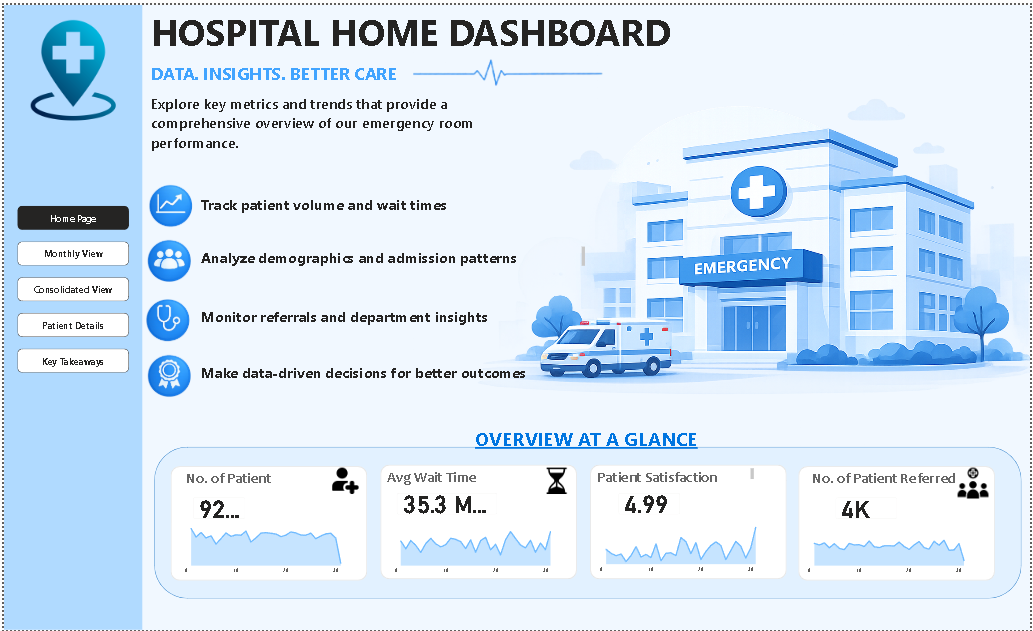

What the dashboard file says about the page in this screenshot:
{"tool":"powerbi","page":{"name":"Home Page","canvas":[2300,1400],"ordinal":0},"visuals":[{"type":"image","box":[906.7,43.3,1393.3,1026.7],"z":0},{"type":"shape","box":[0,0,310,1400],"z":1000},{"type":"image","box":[30,32,250,226],"z":2000},{"type":"pageNavigator","box":[30.5,451.4,250.1,378.2],"z":3000},{"type":"textbox","box":[323.3,0,1223.3,146.7],"z":5000},{"type":"textbox","box":[280,123.3,650,136.7],"z":6000},{"type":"image","box":[853.3,80,596.7,133.3],"z":7000},{"type":"textbox","box":[323.3,193.3,773.3,183.3],"z":8000},{"type":"image","box":[310,386.7,125,125],"z":9000},{"type":"shape","box":[336.7,990,1943.3,340],"z":10000},{"type":"image","box":[310,503.3,125,125],"z":11000},{"type":"image","box":[310,646.7,125,125],"z":12000},{"type":"image","box":[310,763.3,125,125],"z":13000},{"type":"textbox","box":[436.7,420,766.7,60],"z":14000},{"type":"textbox","box":[436.7,536.7,870,53.3],"z":15000},{"type":"textbox","box":[436.7,670,766.7,60],"z":16000},{"type":"textbox","box":[436.7,796.7,766.7,60],"z":17000},{"type":"shape","box":[373.3,1031.8,440.6,256.7],"z":17000,"group":"g2"},{"type":"group","id":"g1","title":"Group 5","box":[373.3,1030,1856.7,260],"z":18000},{"type":"cardVisual","fields":{"Data":["Hospital ER_Data.No of Patients"]},"box":[408.2,1085.1,151.1,82.9],"z":18000,"group":"g2"},{"type":"textbox","box":[763.3,936.7,1083.3,140],"z":18001},{"type":"textbox","box":[402.3,1035.7,218.8,53.3],"z":19000,"group":"g2"},{"type":"areaChart","fields":{"Category":["Date Table.Date.Variation.Date Hierarchy.Day"],"Y":["Hospital ER_Data.No of Patients"]},"box":[392.7,1152.2,421.2,133.3],"z":20000,"group":"g2"},{"type":"shape","box":[842.5,1030,440.6,256.7],"z":21000,"group":"g3"},{"type":"cardVisual","fields":{"Data":["Hospital ER_Data.Avg Wait Time"]},"box":[861.3,1075.3,259.5,82.9],"z":22000,"group":"g3"},{"type":"textbox","box":[851.7,1033.8,218.8,53.3],"z":23000,"group":"g3"},{"type":"areaChart","fields":{"Category":["Date Table.Date.Variation.Date Hierarchy.Day"],"Y":["Avg(Hospital ER_Data.Patient Waittime)"]},"box":[861.3,1152.3,421.2,133.3],"z":24000,"group":"g3"},{"type":"shape","box":[1311.7,1031.7,440.6,256.7],"z":25000,"group":"g4"},{"type":"textbox","box":[1322.3,1033.8,362.1,53.3],"z":26000,"group":"g4"},{"type":"shape","box":[1780.8,1033.3,440.6,256.7],"z":27000,"group":"g5"},{"type":"textbox","box":[1806.4,1035.8,387.3,53.3],"z":28000,"group":"g5"},{"type":"areaChart","fields":{"Category":["Date Table.Date.Variation.Date Hierarchy.Day"],"Y":["Hospital ER_Data.Satisfaction Score"]},"box":[1320.3,1152.3,421.2,133.3],"z":29000,"group":"g4"},{"type":"cardVisual","fields":{"Data":["Hospital ER_Data.Satisfaction Score"]},"box":[1359.1,1079.3,172.4,82.9],"z":30000,"group":"g4"},{"type":"areaChart","fields":{"Category":["Date Table.Date.Variation.Date Hierarchy.Day"],"Y":["Hospital ER_Data.No. of Patient Referred"]},"box":[1790.9,1152.2,421.2,133.3],"z":31000,"group":"g5"},{"type":"cardVisual","fields":{"Data":["Hospital ER_Data.No. of Patient Referred"]},"box":[1849,1085.1,172.4,82.9],"z":32000,"group":"g5"},{"type":"image","box":[717.5,1033.5,96.8,59.2],"z":33000,"group":"g2"},{"type":"image","box":[2113.7,1035.5,116.2,69.1],"z":34000,"group":"g5"},{"type":"image","box":[1188.1,1035.5,96.8,59.2],"z":35000,"group":"g3"},{"type":"image","box":[1674.2,1031.6,96.8,69.1],"z":37000,"group":"g1"},{"type":"group","id":"g2","title":"Group 1","box":[373.3,1031.8,441,256.7],"z":37001,"group":"g1"},{"type":"group","id":"g3","title":"Group 2","box":[842.5,1030,442.4,256.7],"z":37002,"group":"g1"},{"type":"group","id":"g4","title":"Group 3","box":[1311.7,1031.7,440.6,256.7],"z":37003,"group":"g1"},{"type":"group","id":"g5","title":"Group 4","box":[1780.8,1033.3,449.1,256.7],"z":37004,"group":"g1"}]}

Visuals, with their boxes in screenshot pixels (x1, y1, x2, y2), scaled from the page's 2300x1400 canvas onto the 1033x631 screenshot:
image: box=[407, 20, 1032, 482]
shape: box=[0, 0, 139, 630]
image: box=[13, 14, 126, 116]
pageNavigator: box=[14, 203, 126, 374]
textbox: box=[145, 0, 695, 66]
textbox: box=[126, 56, 418, 117]
image: box=[383, 36, 651, 96]
textbox: box=[145, 87, 493, 170]
image: box=[139, 174, 195, 231]
shape: box=[151, 446, 1024, 599]
image: box=[139, 227, 195, 283]
image: box=[139, 291, 195, 348]
image: box=[139, 344, 195, 400]
textbox: box=[196, 189, 540, 216]
textbox: box=[196, 242, 587, 266]
textbox: box=[196, 302, 540, 329]
textbox: box=[196, 359, 540, 386]
shape: box=[168, 465, 366, 581]
"Group 5" group: box=[168, 464, 1002, 581]
cardVisual - Hospital ER_Data.No of Patients: box=[183, 489, 251, 526]
textbox: box=[343, 422, 829, 485]
textbox: box=[181, 467, 279, 491]
areaChart - Date Table.Date.Variation.Date Hierarchy.Day x Hospital ER_Data.No of Patients: box=[176, 519, 366, 579]
shape: box=[378, 464, 576, 580]
cardVisual - Hospital ER_Data.Avg Wait Time: box=[387, 485, 503, 522]
textbox: box=[383, 466, 481, 490]
areaChart - Date Table.Date.Variation.Date Hierarchy.Day x Avg(Hospital ER_Data.Patient Waittime): box=[387, 519, 576, 579]
shape: box=[589, 465, 787, 581]
textbox: box=[594, 466, 757, 490]
shape: box=[800, 466, 998, 581]
textbox: box=[811, 467, 985, 491]
areaChart - Date Table.Date.Variation.Date Hierarchy.Day x Hospital ER_Data.Satisfaction Score: box=[593, 519, 782, 579]
cardVisual - Hospital ER_Data.Satisfaction Score: box=[610, 486, 688, 524]
areaChart - Date Table.Date.Variation.Date Hierarchy.Day x Hospital ER_Data.No. of Patient Referred: box=[804, 519, 994, 579]
cardVisual - Hospital ER_Data.No. of Patient Referred: box=[830, 489, 908, 526]
image: box=[322, 466, 366, 492]
image: box=[949, 467, 1002, 498]
image: box=[534, 467, 577, 493]
image: box=[752, 465, 795, 496]
"Group 1" group: box=[168, 465, 366, 581]
"Group 2" group: box=[378, 464, 577, 580]
"Group 3" group: box=[589, 465, 787, 581]
"Group 4" group: box=[800, 466, 1002, 581]
